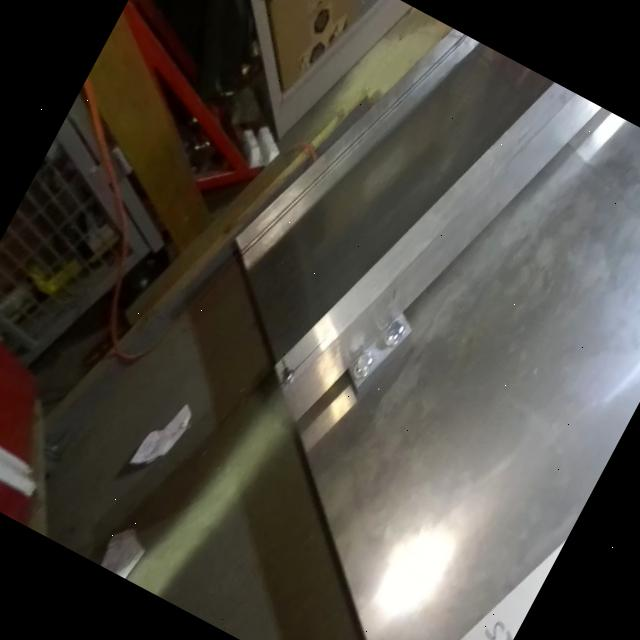blocks: (299, 251, 442, 414)
